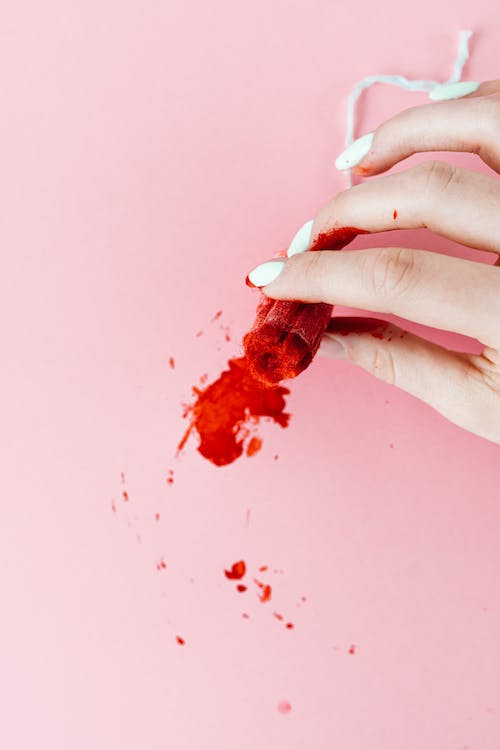blood: (105, 305, 394, 715), (241, 143, 408, 348), (240, 292, 334, 389)
